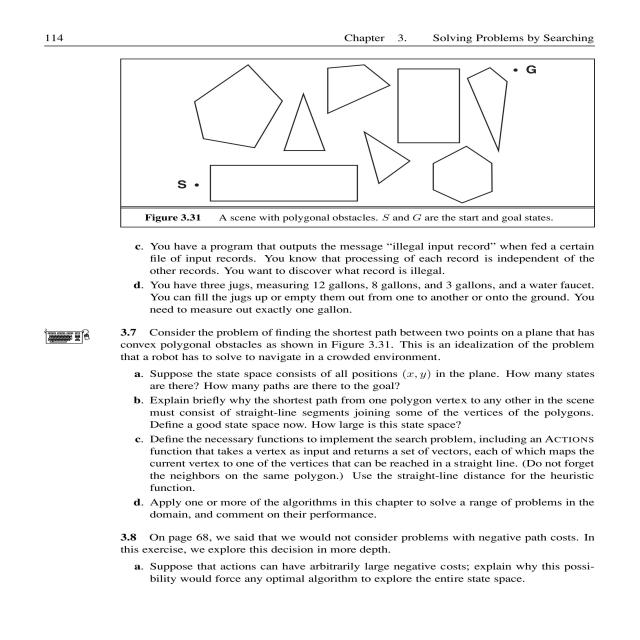diagram: (99, 58, 634, 230)
